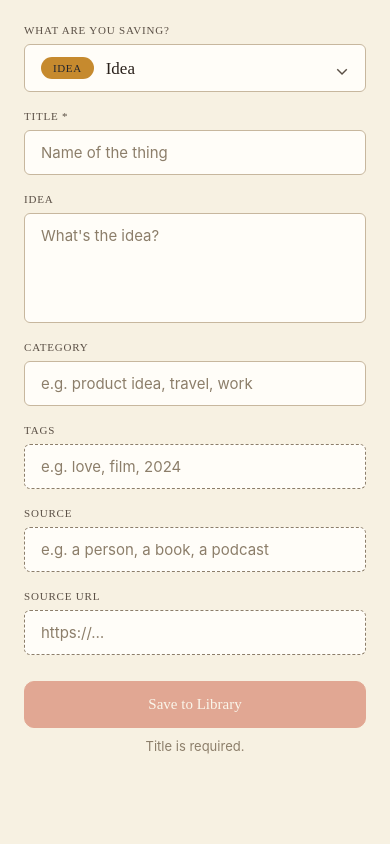
Scenario: ItemForm type picker — disabled built-in types › shows every built-in type in the picker when none are disabled
What coordinates should you click on to do the following:
click the element with test id "type-picker-trigger"
I would click on:
 (195, 68)
Its box is x1=24 y1=44 x2=366 y2=92.
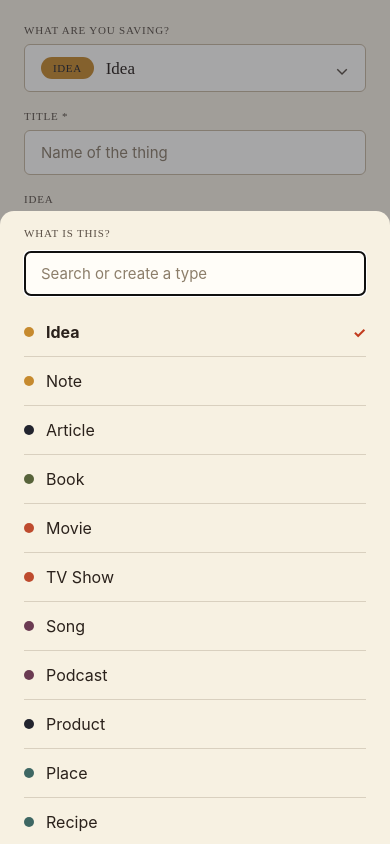
Expected: the text "Article" is shown, x1=46 y1=420 x2=95 y2=440
Expected: the text "Book" is shown, x1=46 y1=469 x2=84 y2=489
